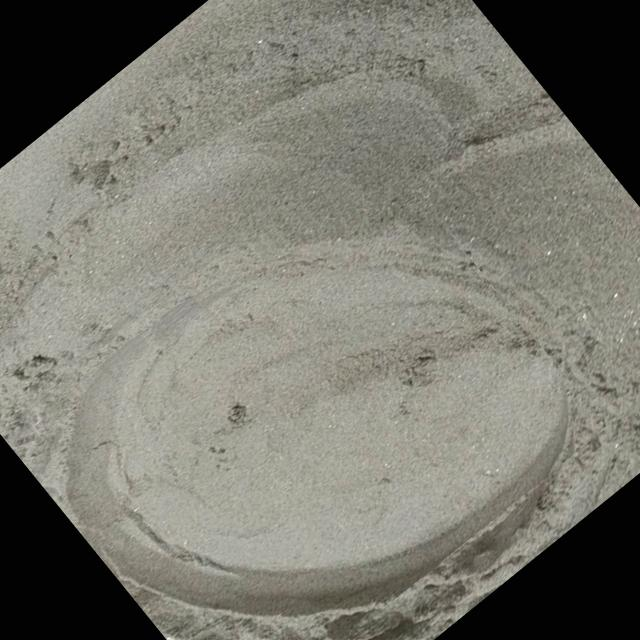C40: (66, 241, 565, 614)
